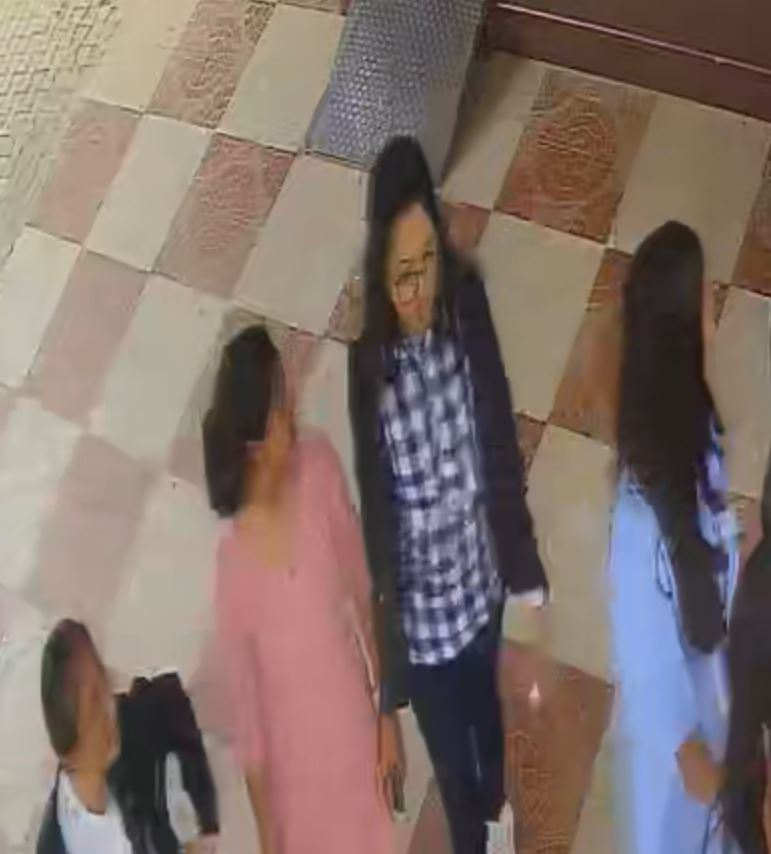not intruder: (348, 135, 561, 842), (180, 294, 406, 854)
